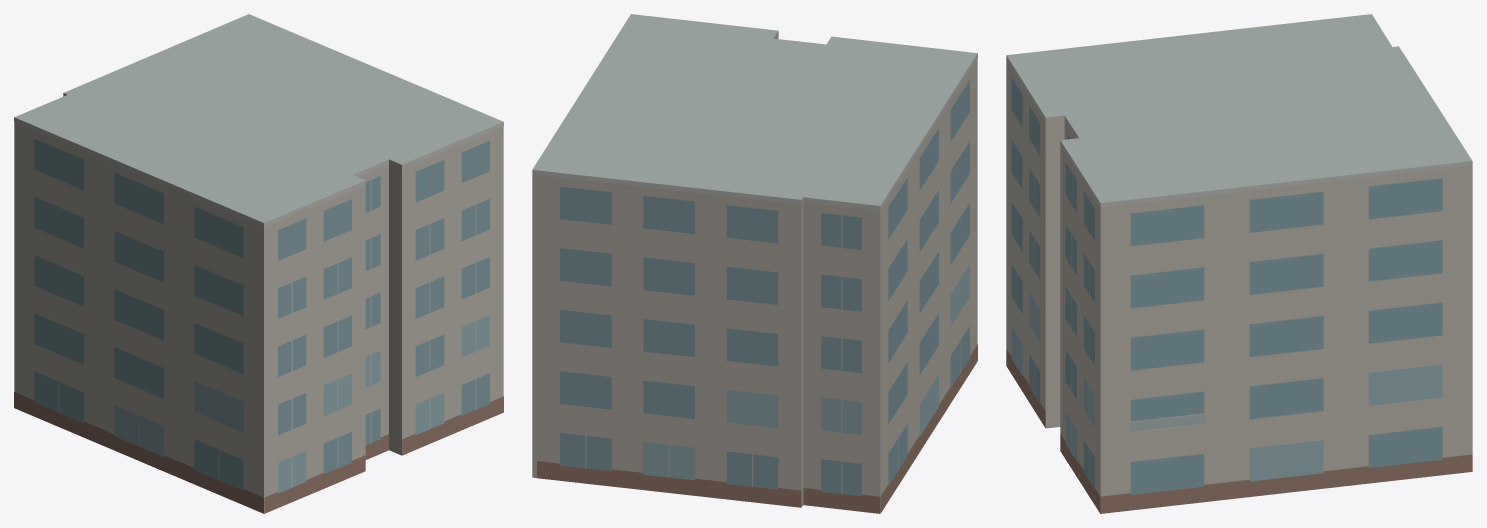
Rendered from survey-upis-32917635.glb.
3 views of the same model, side by side, from view 1: azimuth 30°, elevation 25°; view 2: azimuth 150°, elevation 25°; view 3: azimuth 270°, elevation 25° (orthographic). The views are drawn at different scales.
Parts seen in each view (by area): view 1: survey-upis-32917635.tmp; view 2: survey-upis-32917635.tmp; view 3: survey-upis-32917635.tmp.
Boxes of the visible parts, x1,y1,x2,y2 form: survey-upis-32917635.tmp: (14, 14, 503, 513); survey-upis-32917635.tmp: (532, 14, 977, 513); survey-upis-32917635.tmp: (1006, 14, 1472, 513).
Size of the model in its own units: 20.63 by 15.8 by 21.49.
